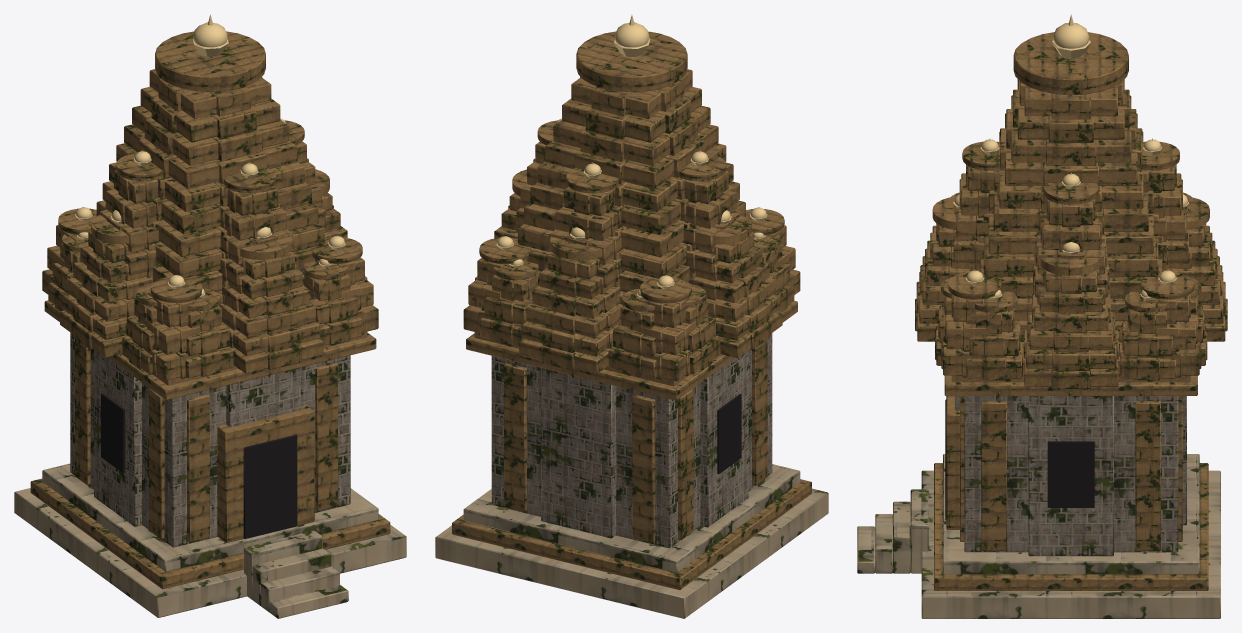
Rendered from Shikhara.fbx.
The picture shows the model from 3 angles, left to right: view 1: azimuth 30°, elevation 25°; view 2: azimuth 150°, elevation 25°; view 3: azimuth 270°, elevation 25°; orthographic projection. The views are drawn at different scales.
Visible parts, largest first — view 1: Shikhara_LOD0; view 2: Shikhara_LOD0; view 3: Shikhara_LOD0.
Boxes of the visible parts, <box> form: Shikhara_LOD0: <box>14,14,406,618</box>; Shikhara_LOD0: <box>435,15,828,618</box>; Shikhara_LOD0: <box>857,14,1227,618</box>.
Size of what is drawn, in the model's own units: 8.77 by 16.78 by 10.39.
